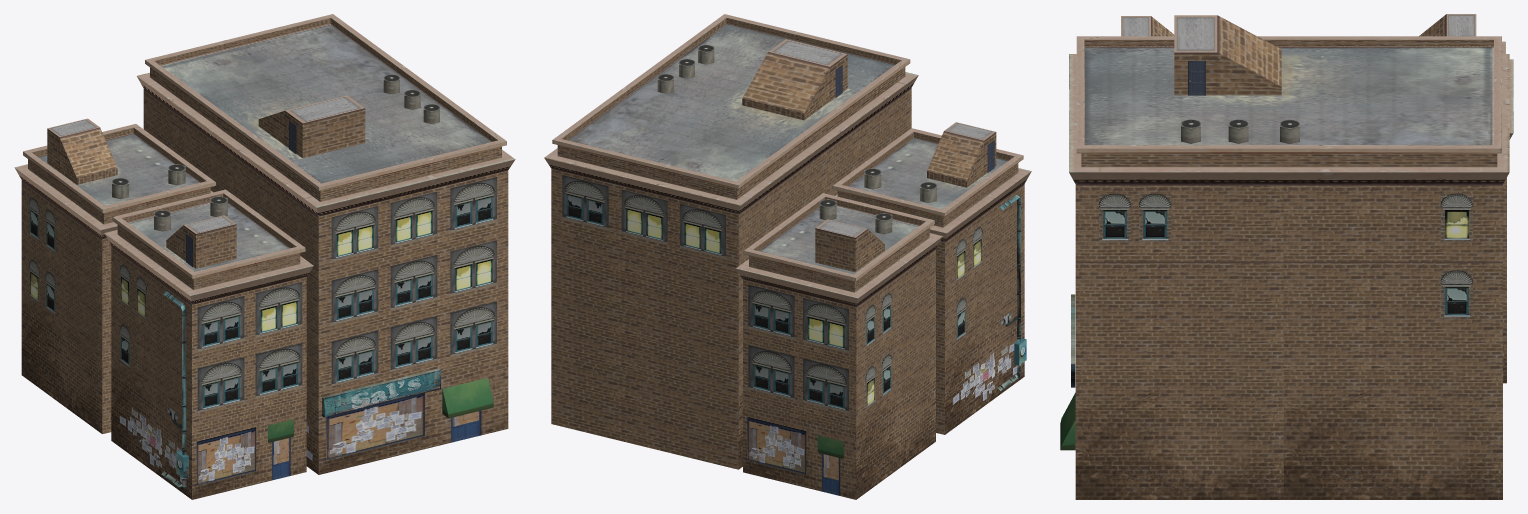
The picture shows the model from 3 angles, left to right: view 1: azimuth 30°, elevation 25°; view 2: azimuth 150°, elevation 25°; view 3: azimuth 270°, elevation 25°; orthographic projection. The views are drawn at different scales.
Parts seen in each view (by area): view 1: polySurface34_FillerBuildings1_0.001; view 2: polySurface34_FillerBuildings1_0.001; view 3: polySurface34_FillerBuildings1_0.001.
Boxes of the visible parts, x1,y1,x2,y2 form: polySurface34_FillerBuildings1_0.001: (14, 14, 515, 499); polySurface34_FillerBuildings1_0.001: (544, 14, 1031, 499); polySurface34_FillerBuildings1_0.001: (1060, 14, 1513, 499).
Bounding box in the file's own units: 9.26 × 8.74 × 9.3.
Materials: 2 (2 with a texture image).
